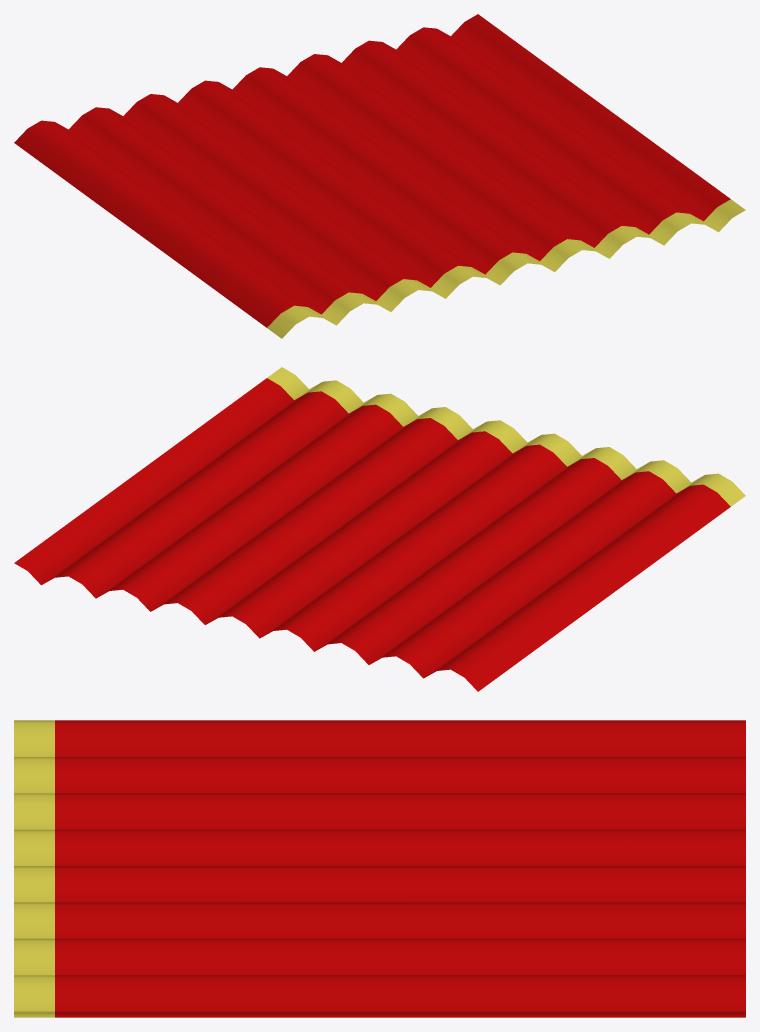
The model's file is tirai hijau.fbx.
3 views of the same model, one above another, from view 1: azimuth 30°, elevation 25°; view 2: azimuth 150°, elevation 25°; view 3: azimuth 270°, elevation 25° (orthographic). The views are drawn at different scales.
Parts seen in each view (by area): view 1: Plane.001; view 2: Plane.001; view 3: Plane.001.
Part boxes in pixels (<box>): Plane.001: <box>14,14,745,338</box>; Plane.001: <box>14,367,745,691</box>; Plane.001: <box>14,720,745,1017</box>.
Bounding box in the file's own units: 1345 × 43.27 × 1345.
